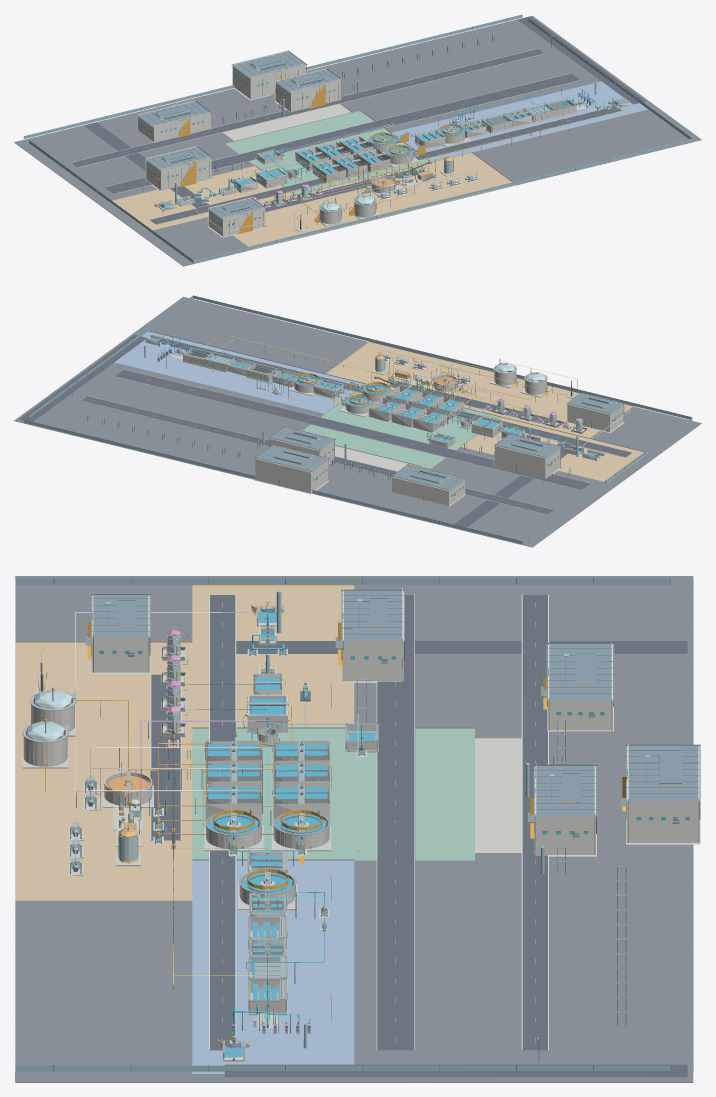
The picture shows the model from 3 angles, top to bottom: view 1: azimuth 30°, elevation 25°; view 2: azimuth 150°, elevation 25°; view 3: azimuth 270°, elevation 25°; orthographic projection. The views are drawn at different scales.
Parts seen in each view (by area): view 1: render-batch-14, render-batch-10, render-batch-30, render-batch-28, render-batch-34, render-batch-17, render-batch-20, render-batch-16, render-batch-18, render-batch-7, render-batch-37, render-batch-19 (+9 smaller); view 2: render-batch-14, render-batch-10, render-batch-30, render-batch-34, render-batch-28, render-batch-20, render-batch-17, render-batch-16, render-batch-18, render-batch-7, render-batch-19, render-batch-11 (+8 smaller); view 3: render-batch-14, render-batch-10, render-batch-30, render-batch-28, render-batch-20, render-batch-34, render-batch-18, render-batch-16, render-batch-17, render-batch-7, render-batch-19, render-batch-21 (+7 smaller).
Boxes of the visible parts, x1,y1,x2,y2 form: render-batch-14: (14, 15, 701, 266); render-batch-10: (71, 16, 646, 224); render-batch-30: (108, 152, 515, 249); render-batch-28: (137, 68, 630, 237); render-batch-34: (71, 48, 622, 236); render-batch-17: (23, 14, 692, 263); render-batch-20: (391, 81, 647, 161); render-batch-16: (136, 51, 342, 227); render-batch-18: (225, 110, 429, 194); render-batch-7: (159, 100, 625, 208); render-batch-37: (158, 36, 624, 233); render-batch-19: (159, 97, 630, 207); render-batch-14: (14, 296, 701, 547); render-batch-10: (19, 335, 631, 527); render-batch-30: (325, 341, 647, 482); render-batch-34: (81, 339, 631, 514); render-batch-28: (145, 335, 624, 506); render-batch-20: (114, 330, 365, 413); render-batch-17: (23, 295, 692, 544); render-batch-16: (254, 393, 625, 491); render-batch-18: (302, 383, 500, 468); render-batch-7: (150, 337, 599, 457); render-batch-19: (146, 334, 600, 456); render-batch-11: (67, 299, 663, 539); render-batch-14: (15, 576, 693, 1082); render-batch-10: (151, 595, 687, 1077); render-batch-30: (15, 584, 354, 900); render-batch-28: (22, 605, 700, 1061); render-batch-20: (192, 859, 354, 1073); render-batch-34: (92, 588, 699, 1050); render-batch-18: (192, 727, 474, 860); render-batch-16: (85, 589, 700, 821); render-batch-17: (15, 578, 693, 1071); render-batch-7: (208, 611, 375, 1057); render-batch-19: (124, 606, 378, 1053); render-batch-21: (22, 603, 377, 1047).
Bounding box in the file's own units: 318 × 18.79 × 182.
